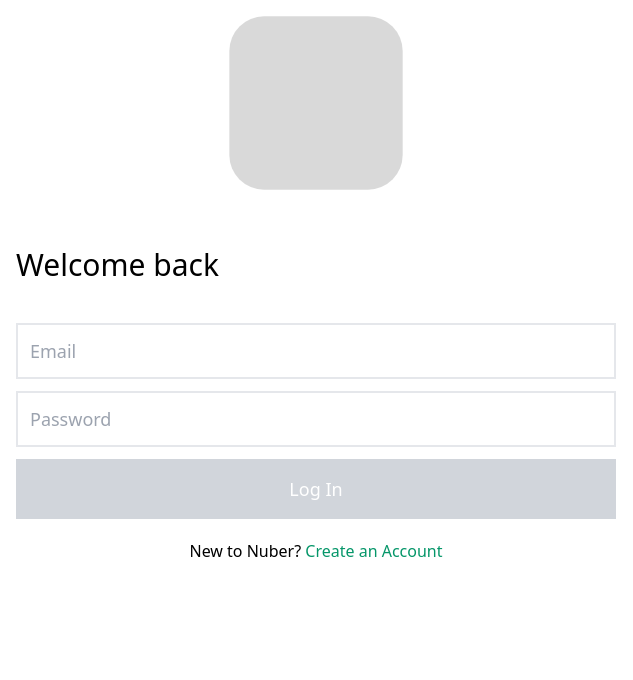
it: Create Account › should see email / password validation errors
Click the link "Create an Account": (374, 551) [305,540,442,562]
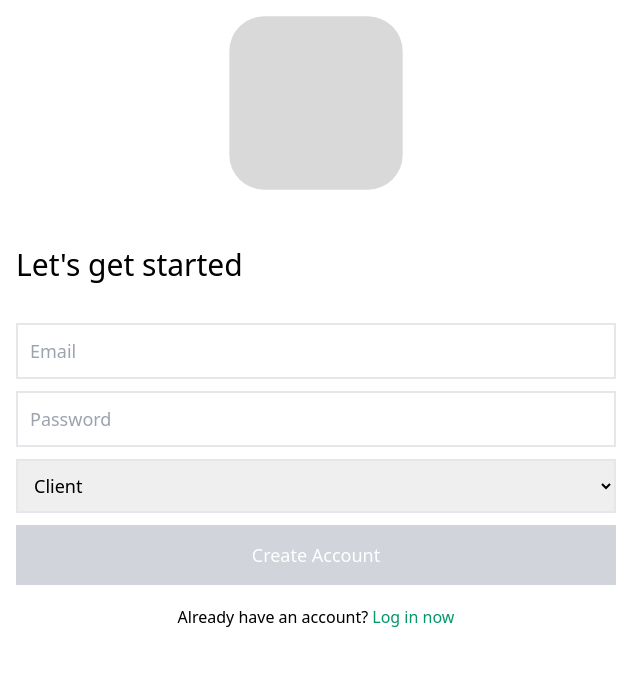
In the field with placeholder "Email": (316, 351) [16,323,616,379], type "invalid@email"
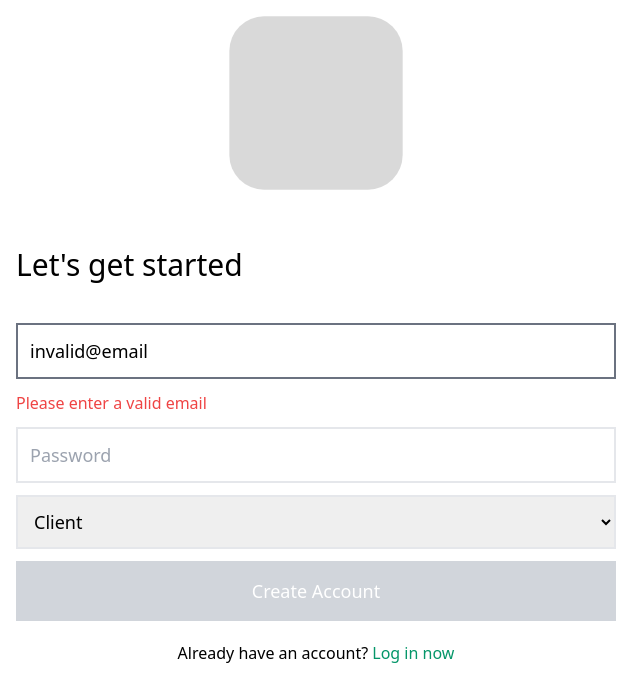
Expected: the message reads "Please enter a valid email", [16,392,207,414]
Clear the field with placeholder "Email": (316, 351) [16,323,616,379]
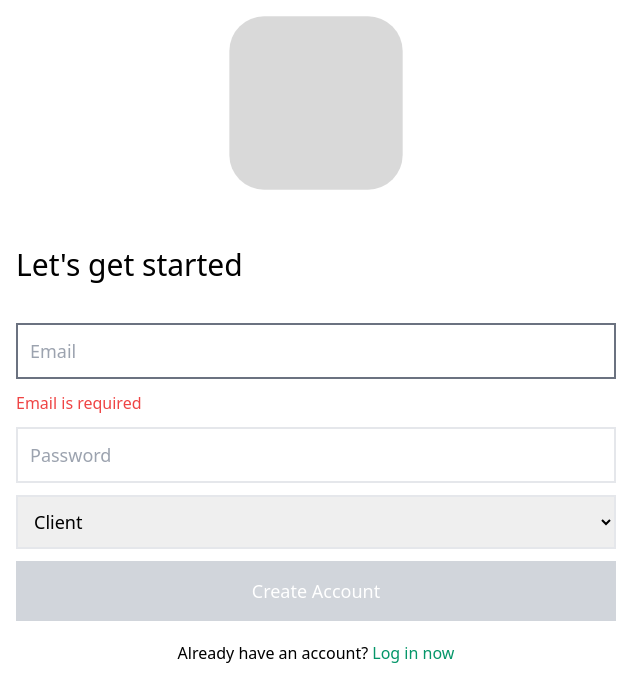
Expected: the message reads "Email is required", [16,392,142,414]
In the field with placeholder "Email": (316, 351) [16,323,616,379], type "valid@email.com"
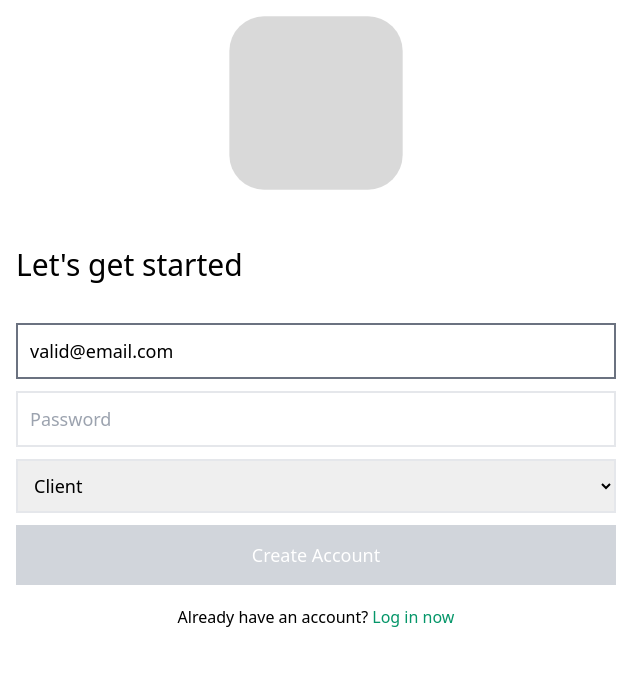
In the password field with placeholder "Password": (316, 419) [16,391,616,447], type "1234"
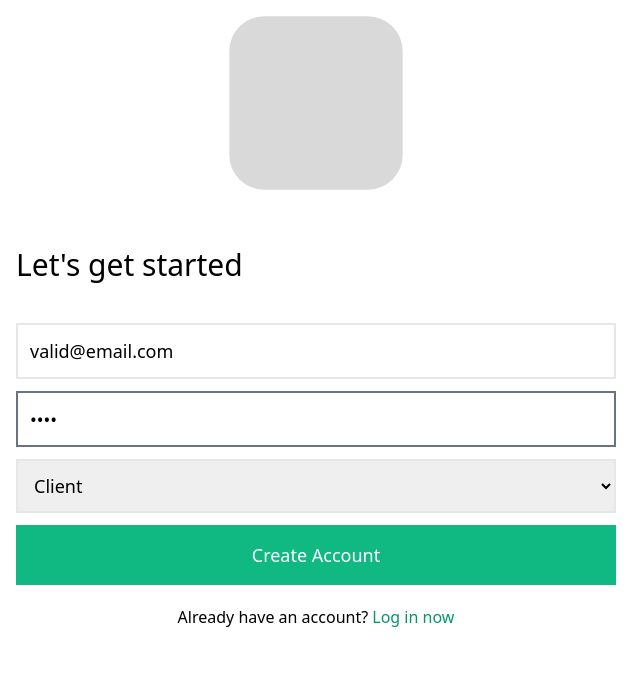
Clear the password field with placeholder "Password": (316, 419) [16,391,616,447]
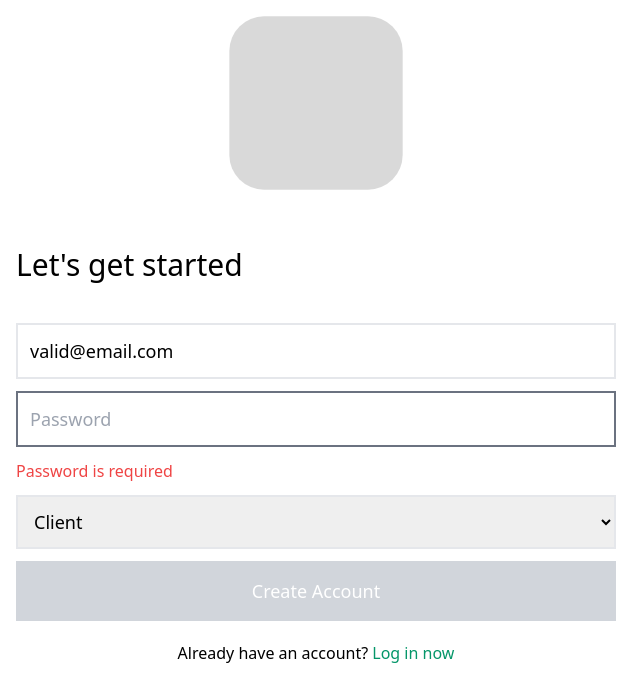
Expected: the message reads "Password is required", [16,460,173,482]
